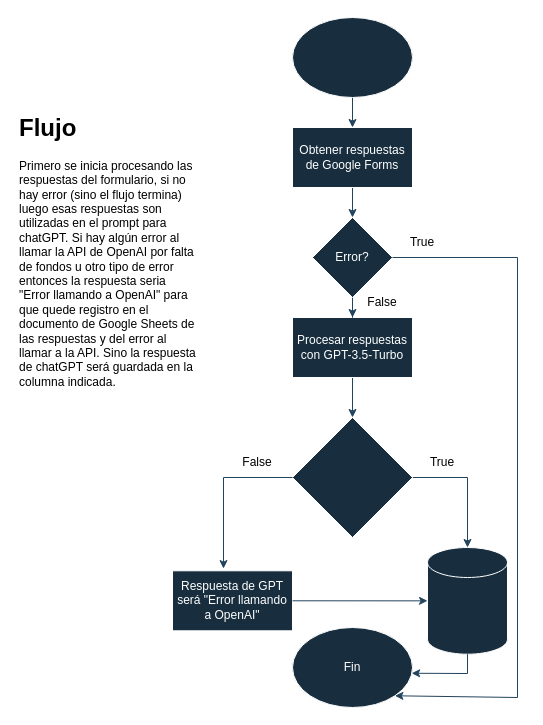
The diagram is 543 pixels wide and 725 high, and some of its shapes have lost their labels. Here are the shapes that lost their labels. From the top down, the centre of each, then its label:
[352,57]: Inicio
[352,477]: No hubo error al conectarse a la API de OpenAI?
[467,600]: Guardar respuestas en Google Sheet
